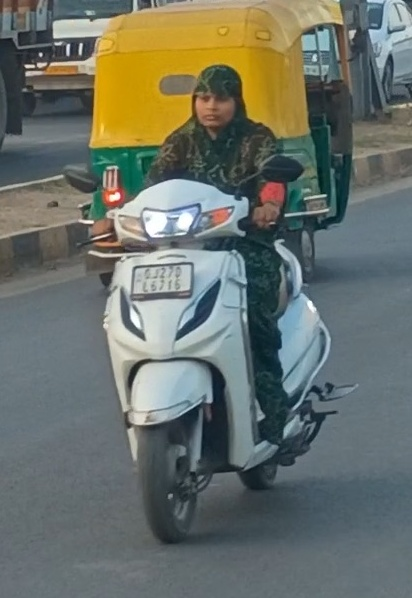BikeWithRider: (60, 57, 365, 551)
NoHelmet: (180, 59, 256, 138)
